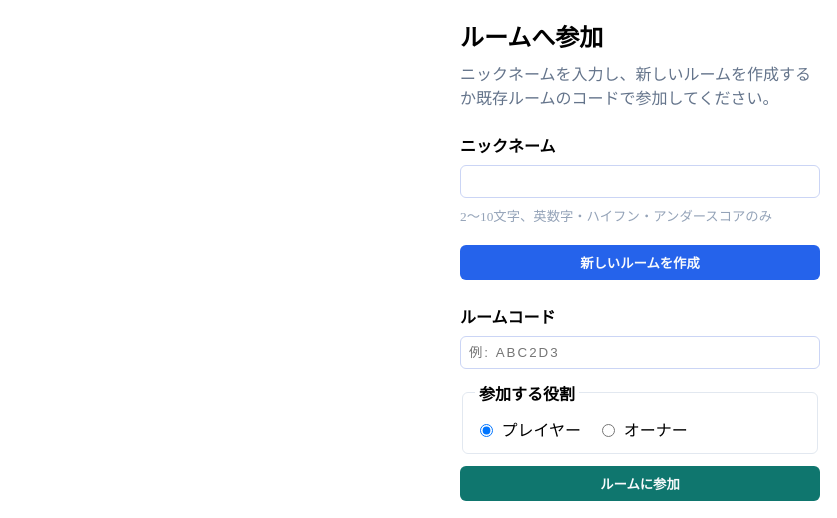
Test: App lobby interactions › creates a new room as owner after entering nickname
Type "TARO" into the field labelled "ニックネーム" at {"x": 640, "y": 181}, box left=460, top=165, right=820, bottom=198
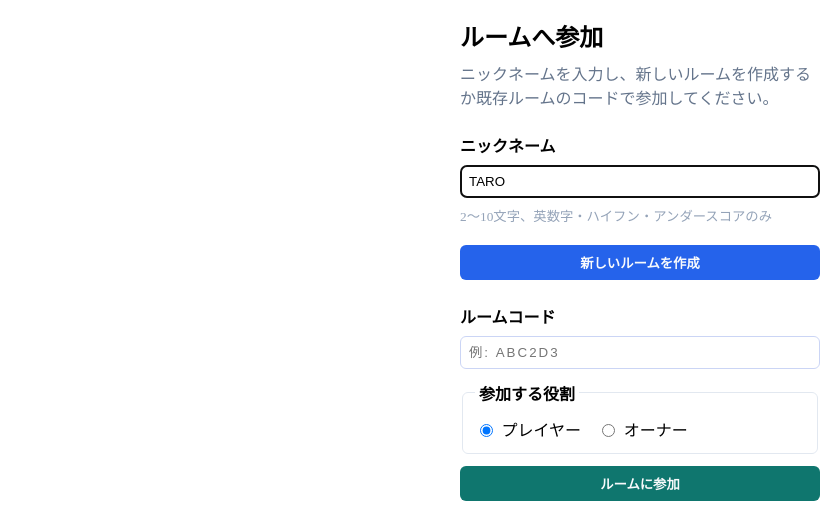
Click the button "新しいルームを作成" at {"x": 640, "y": 262}, box left=460, top=245, right=820, bottom=280
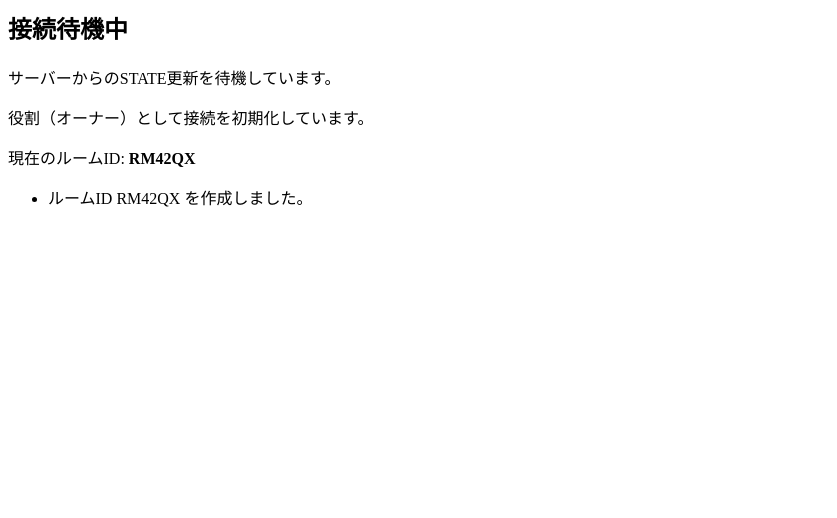
Check: the text "役割（オーナー）として接続を初期化しています。" is shown, box left=8, top=110, right=374, bottom=127
